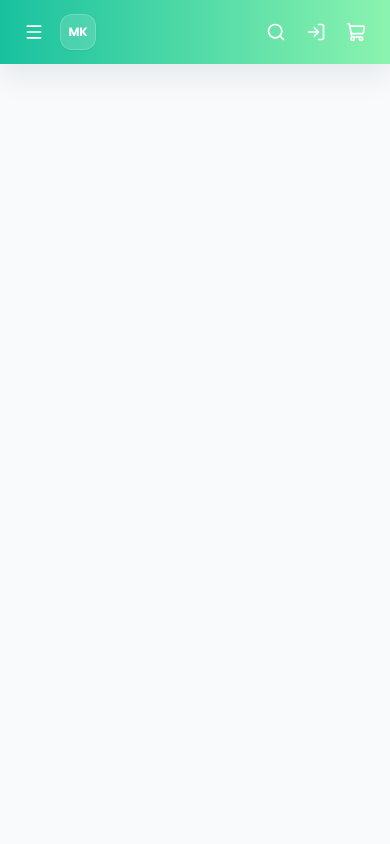
it: NavigationBar branding › opens and closes the mobile menu
Click the button named "open navigation menu": [34, 32] box 16,14 -> 52,50
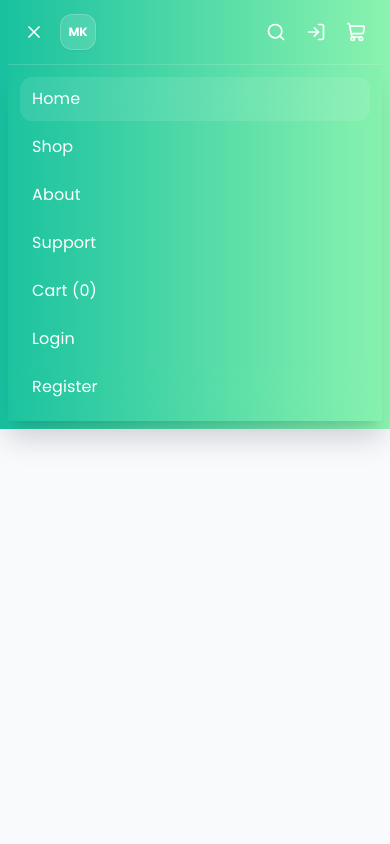
Expected: the button named "open navigation menu" is expanded, 16,14 -> 52,50
Press Escape
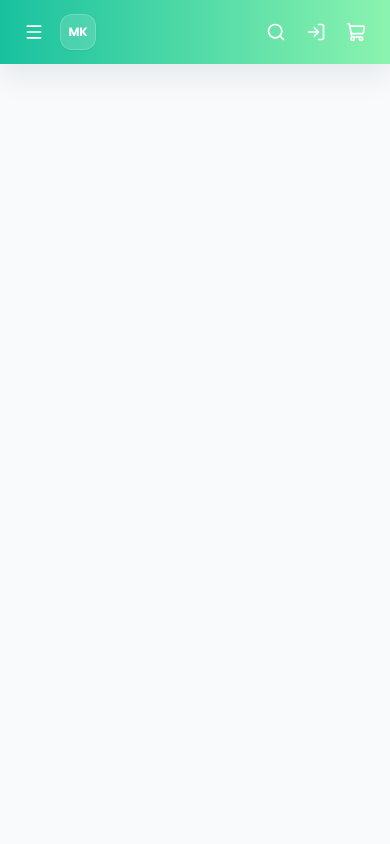
Expected: the button named "open navigation menu" is collapsed, 16,14 -> 52,50
